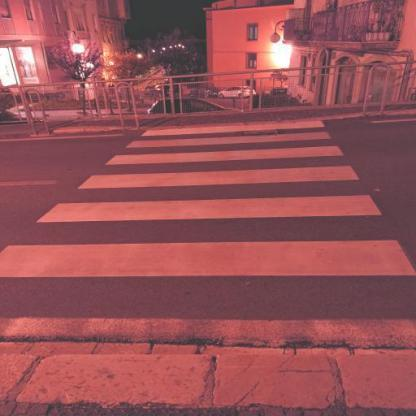crosswalk: (34, 162, 385, 226), (122, 118, 335, 149)
